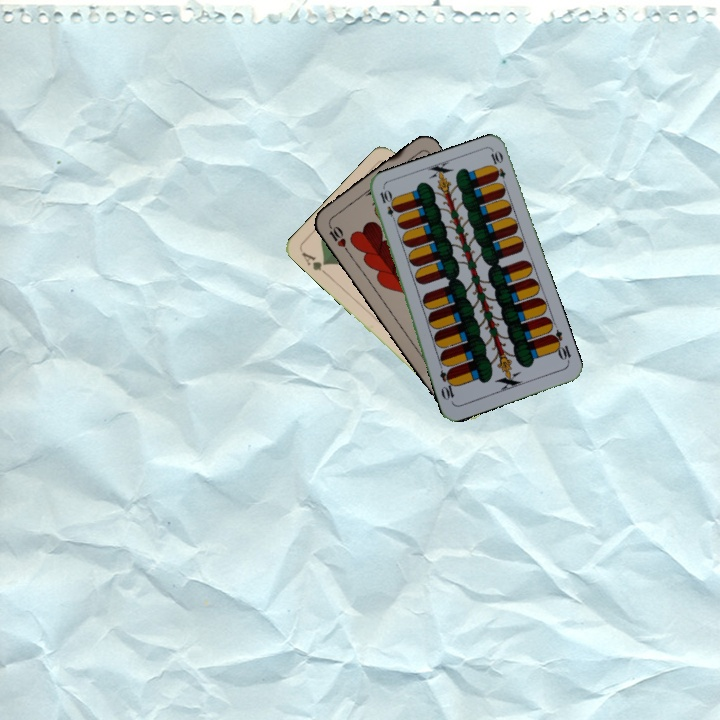E10: (546, 326, 573, 365), (376, 186, 400, 226)
GA: (297, 247, 331, 279)
H10: (324, 218, 351, 255)
